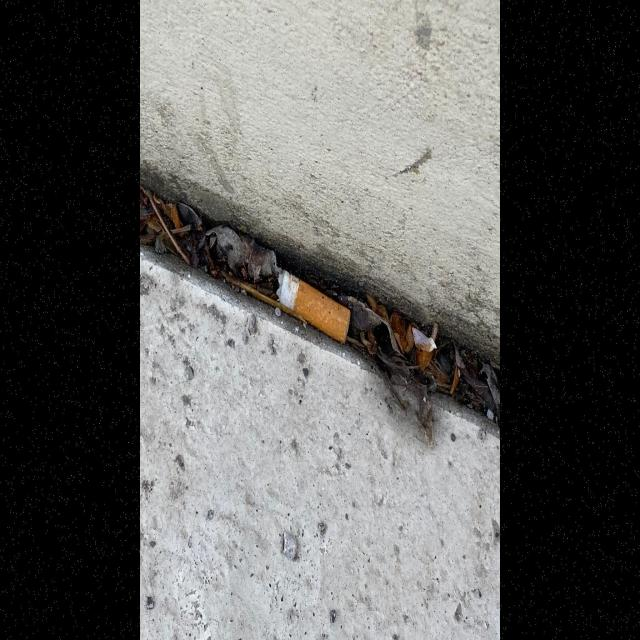other waste: (275, 268, 351, 346)
